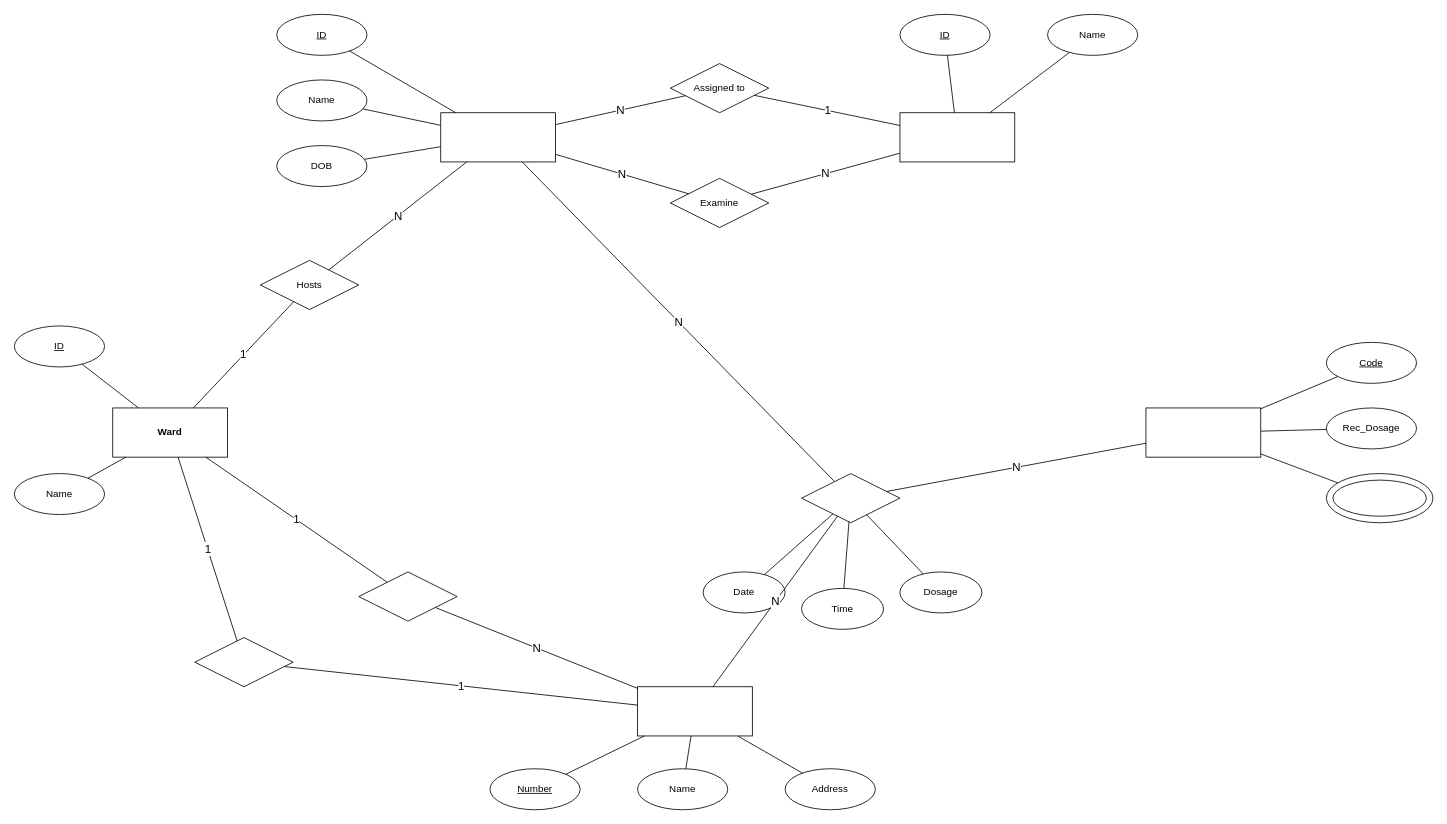
Image size: 1447x824. Some labels were removed from this diagram. The centre of each missing label's shape, as x and y in pixels:
"Brand" goes at [1379,497].
"Consultant" goes at [957,137].
"Drug" goes at [1203,432].
"Gives" goes at [850,498].
"Nurse" goes at [694,711].
"Patient" goes at [498,137].
"Serve in" goes at [407,596].
"Supervise" goes at [243,662].
